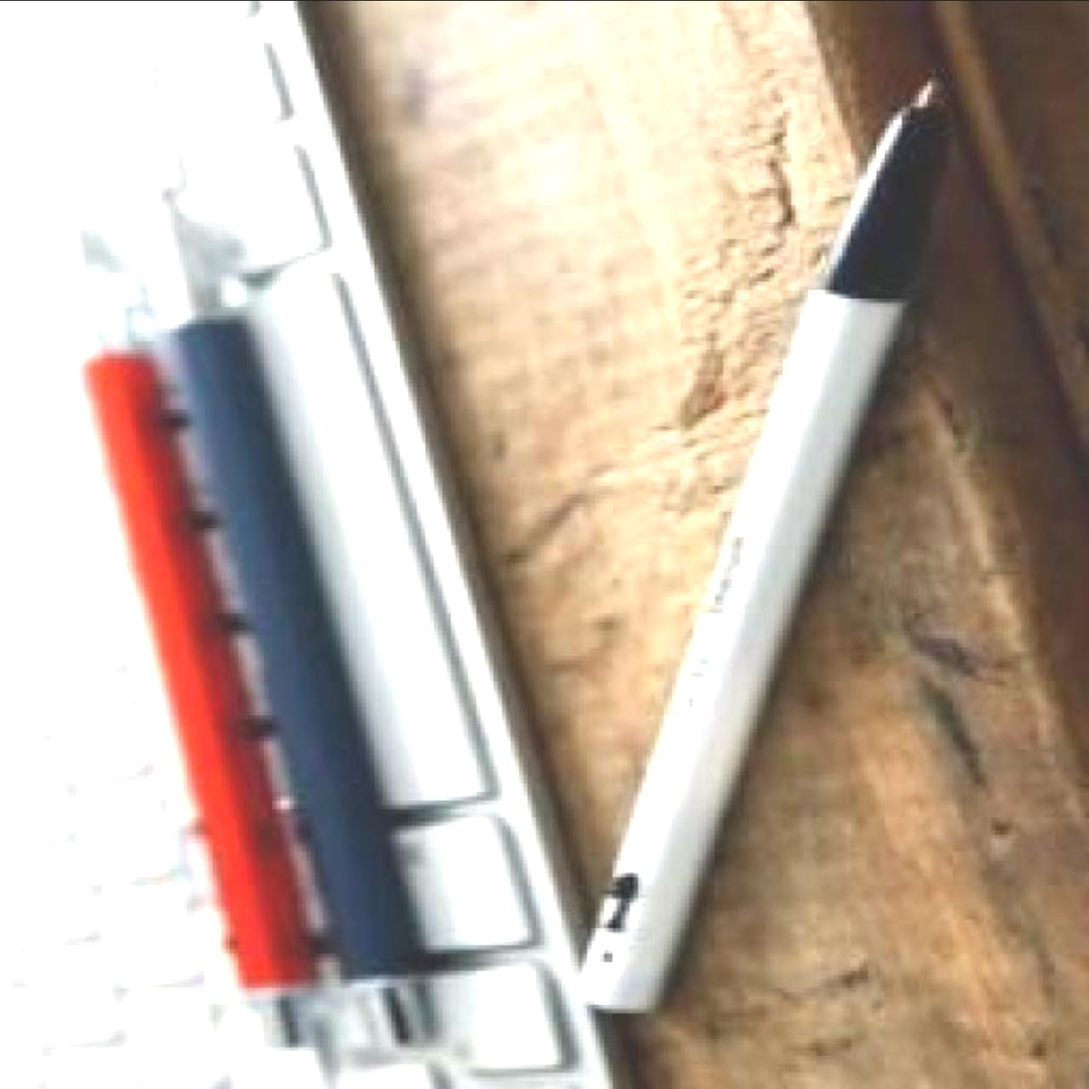pen: (575, 68, 972, 1026)
